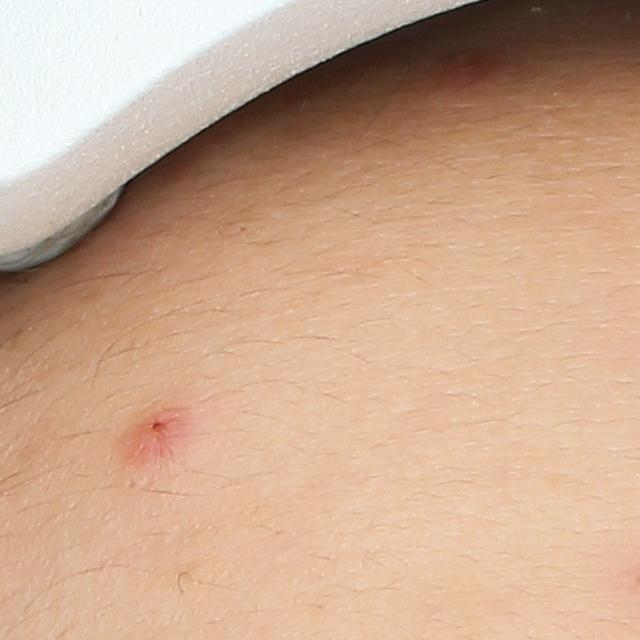papule: (133, 409, 183, 450)
